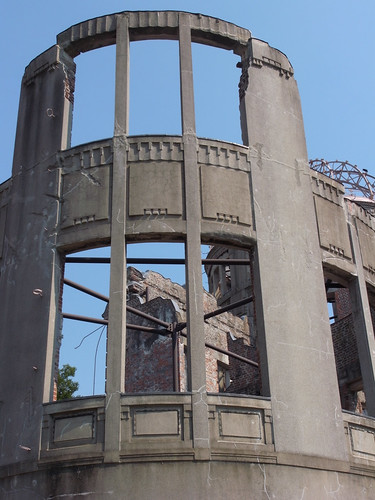building: (1, 1, 375, 500)
